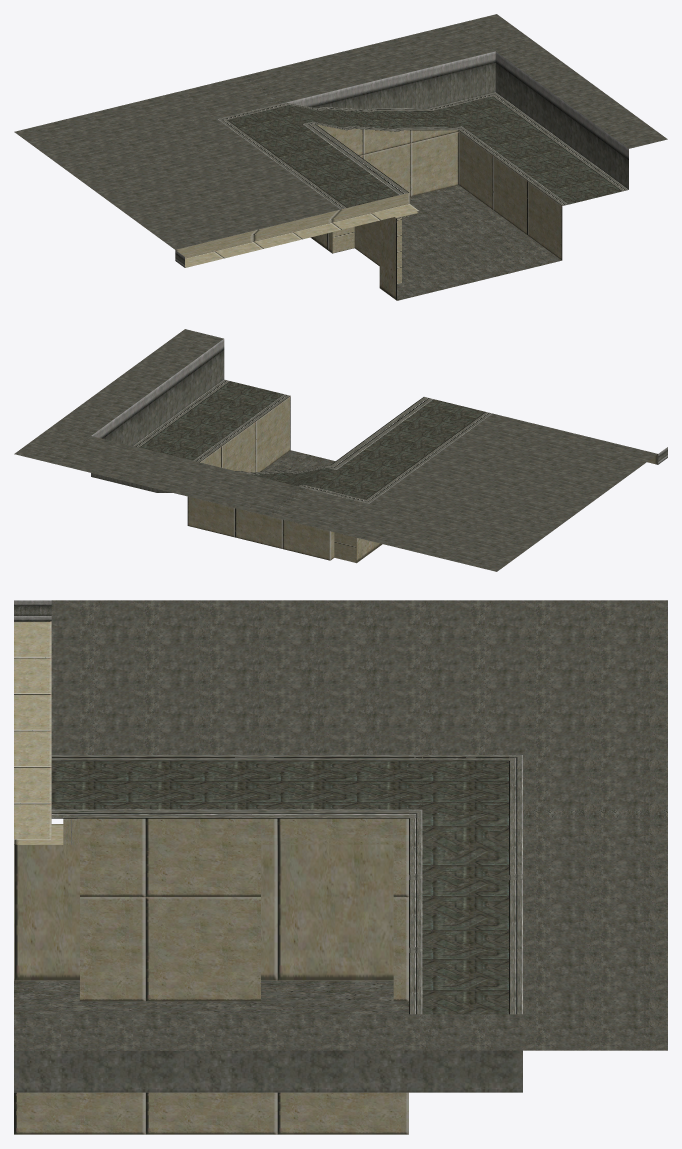
Rendered from DWARF_PALACE_GEAR_ROOM_FLOORA.fbx.
The picture shows the model from 3 angles, top to bottom: view 1: azimuth 30°, elevation 25°; view 2: azimuth 150°, elevation 25°; view 3: azimuth 270°, elevation 25°; orthographic projection. The views are drawn at different scales.
Visible parts, largest first — view 1: DWARF_PALACE_GEAR_ROOM_FLOORA; view 2: DWARF_PALACE_GEAR_ROOM_FLOORA; view 3: DWARF_PALACE_GEAR_ROOM_FLOORA.
Part boxes in pixels (x1,y1,x2,y2): DWARF_PALACE_GEAR_ROOM_FLOORA: (14,14,667,300); DWARF_PALACE_GEAR_ROOM_FLOORA: (14,329,667,571); DWARF_PALACE_GEAR_ROOM_FLOORA: (14,600,667,1134).
Size of the model in its own units: 370025 by 70060 by 227025.
7 materials, 7 textured.
